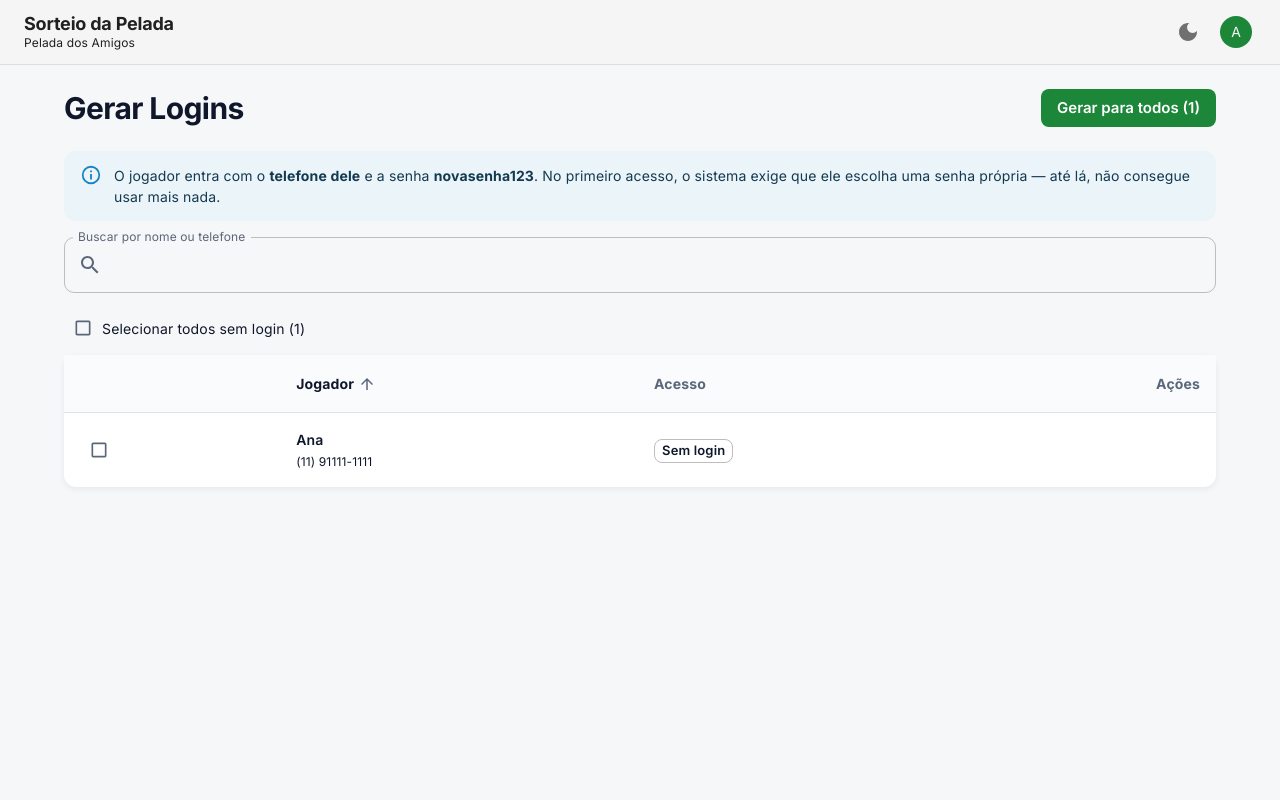
seleção › a barra de ações só aparece com alguém marcado
Check: the text "Ana" is shown, box [296,431,323,448]
Click the checkbox named "Selecionar Ana".
click(99, 450)  # box [89,440,109,460]
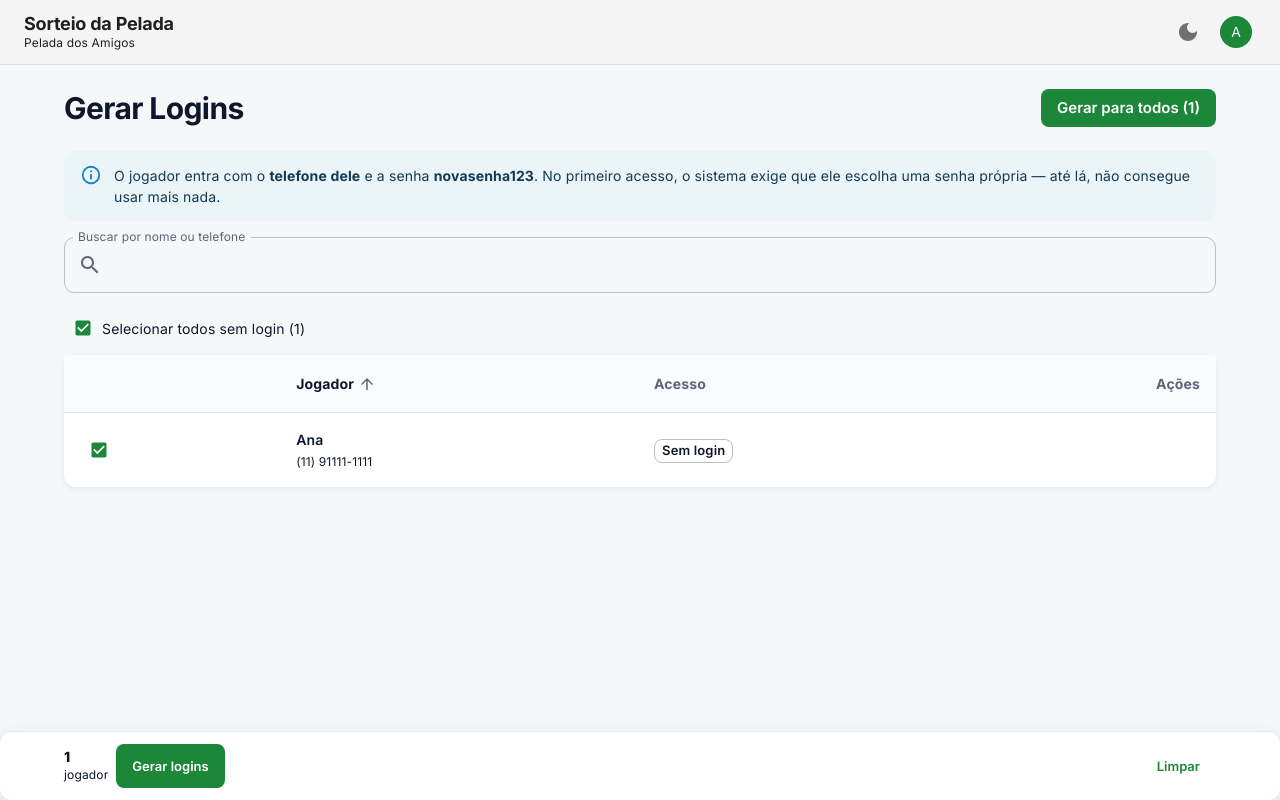
Check: the element named "Ações em massa" is shown, box [0,731,1279,799]
